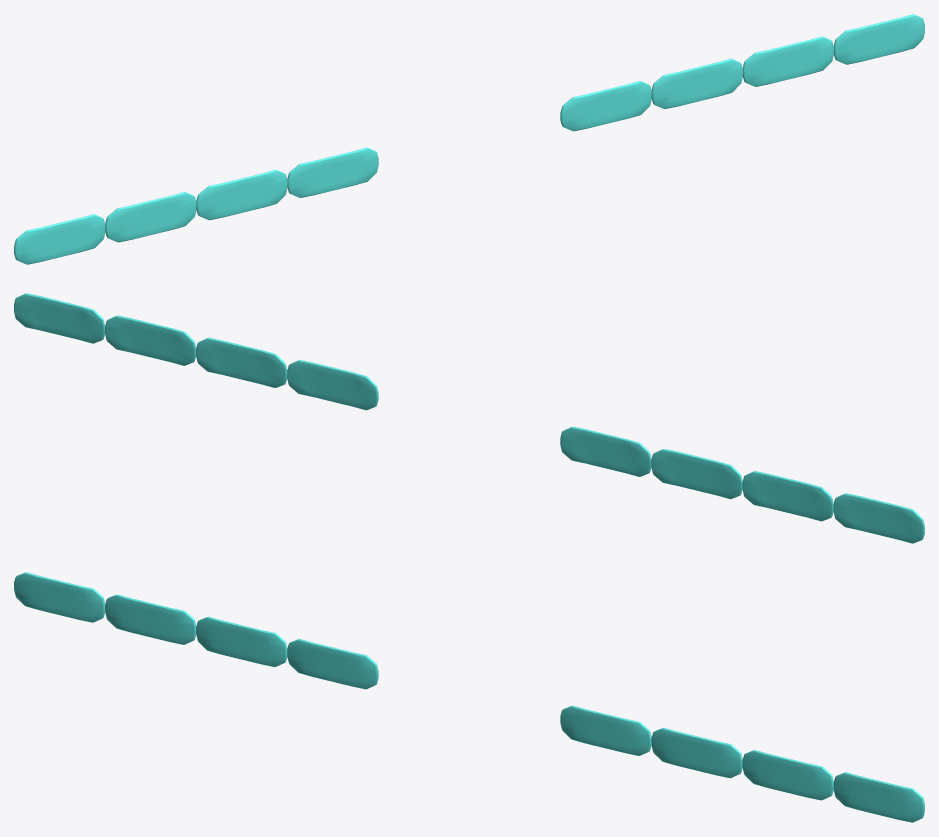
The model's file is Railings.fbx.
The picture shows the model from 3 angles, top to bottom: view 1: azimuth 30°, elevation 25°; view 2: azimuth 150°, elevation 25°; view 3: azimuth 330°, elevation 25°; orthographic projection.
Parts seen in each view (by area): view 1: Main Level.002; view 2: Main Level.002; view 3: Main Level.002.
Part boxes in pixels (x1,y1,x2,y2): Main Level.002: [14, 14, 924, 264]; Main Level.002: [14, 293, 924, 543]; Main Level.002: [14, 572, 924, 822].
Bounding box in the file's own units: 10235 × 366 × 48.09.
